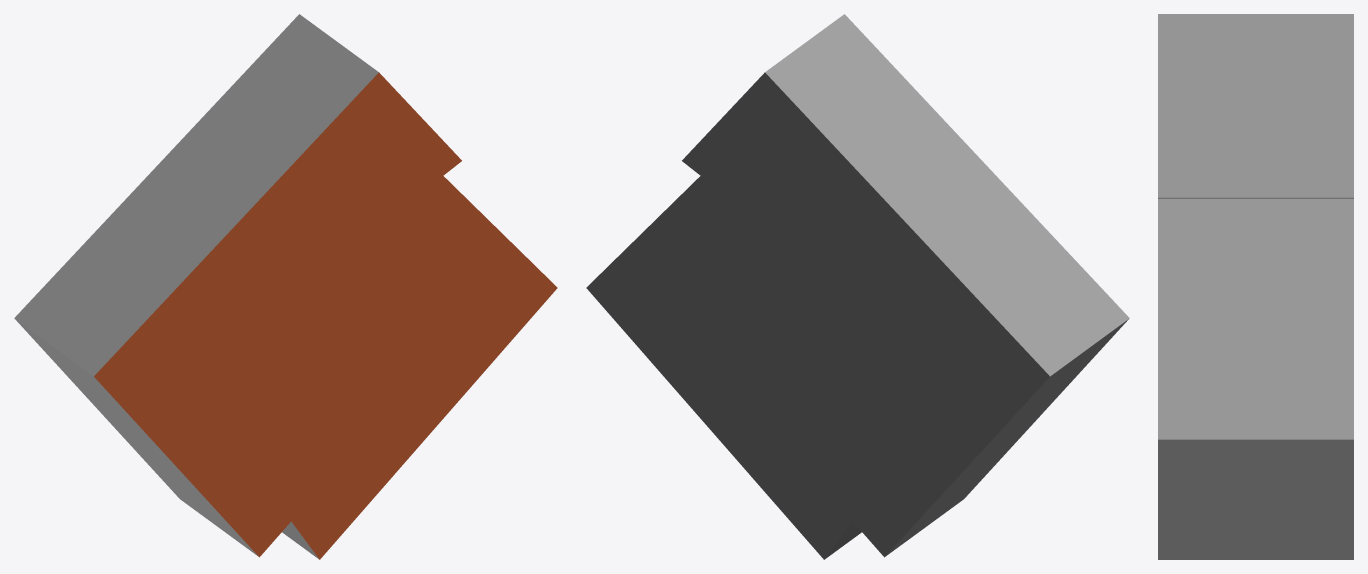
File: construction_6673_assumed_A_Casa_h6m.obj
The picture shows the model from 3 angles, left to right: view 1: azimuth 30°, elevation 25°; view 2: azimuth 150°, elevation 25°; view 3: azimuth 270°, elevation 25°; orthographic projection. The views are drawn at different scales.
Visible parts, largest first — view 1: construction_6673_assumed_A_Casa; view 2: construction_6673_assumed_A_Casa; view 3: construction_6673_assumed_A_Casa.
Part boxes in pixels (box(x1,y1,x2,y2)): construction_6673_assumed_A_Casa: box(14, 14, 557, 559); construction_6673_assumed_A_Casa: box(586, 14, 1129, 559); construction_6673_assumed_A_Casa: box(1158, 14, 1353, 559).
Size of the model in its own units: 20.18 by 19.67 by 6.
